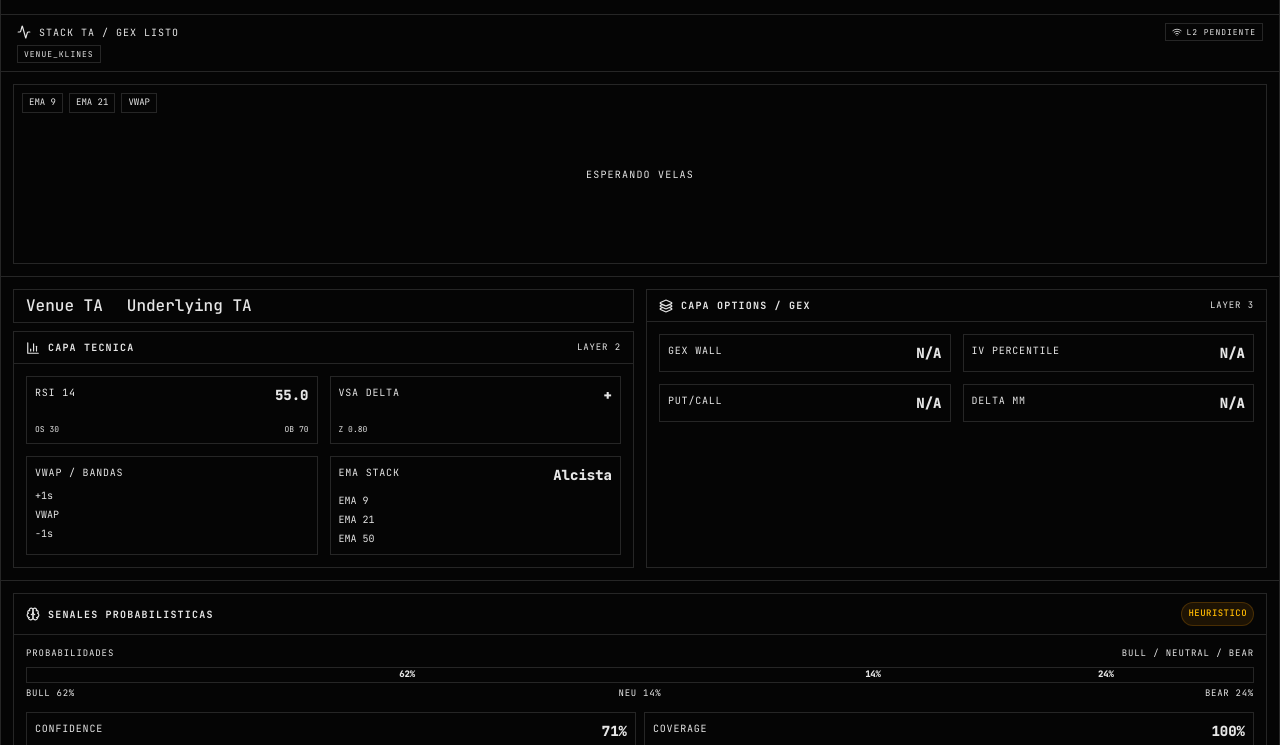
BingxAnalysisDrawer composition › renders probabilistic distribution while underlying TA shows unavailable
Expected: the text "Bull 62%" is shown, x1=26 y1=686 x2=75 y2=700
Expected: the text "Heuristico" is shown, x1=1182 y1=602 x2=1254 y2=626
Click the button "Underlying TA" at (189, 306), box x1=115 y1=290 x2=264 y2=322
(page scrolled)
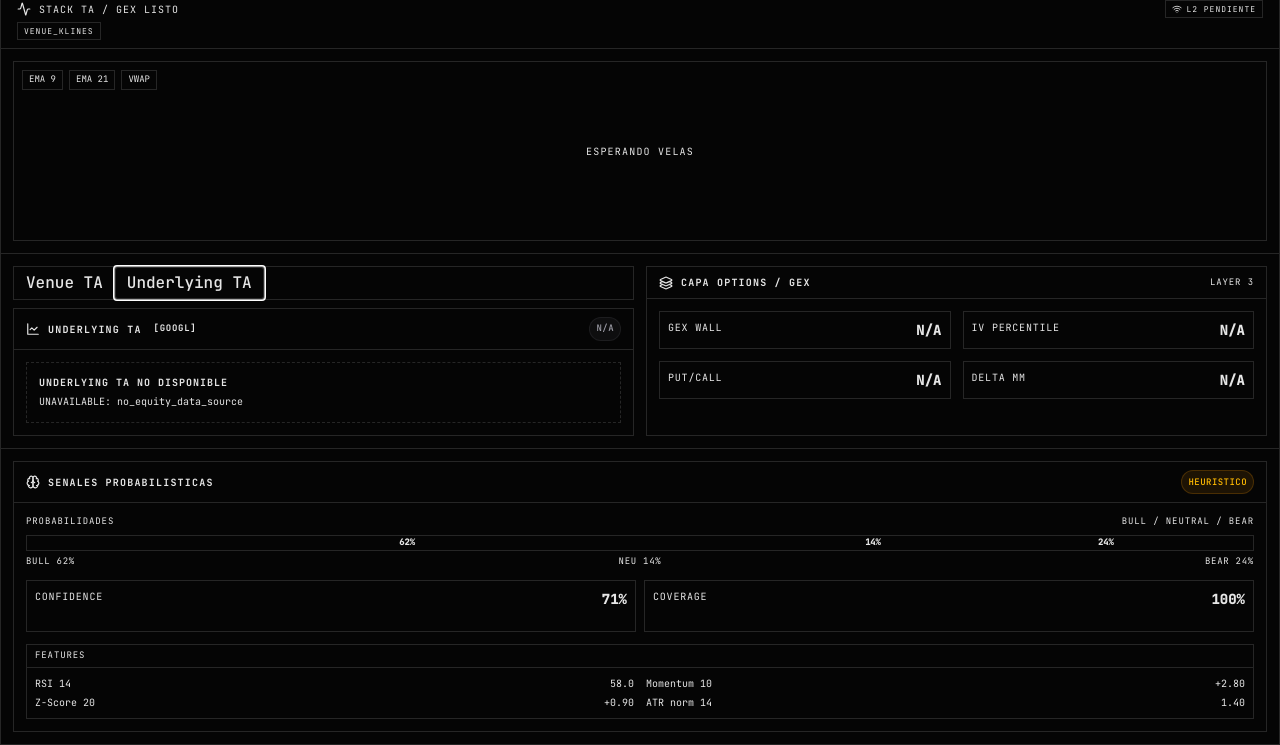
Expected: the text "Bull 62%" is shown, x1=26 y1=555 x2=75 y2=568
Expected: the text "Underlying TA no disponible" is shown, x1=39 y1=376 x2=228 y2=389
Expected: the text "UNAVAILABLE: no_equity_data_source" is shown, x1=39 y1=395 x2=243 y2=408
